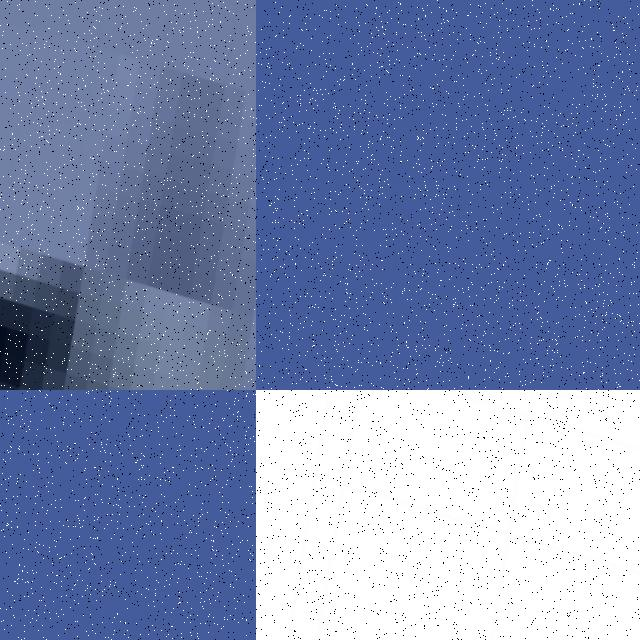0: (0, 0, 256, 390)
drone: (256, 390, 640, 640)
